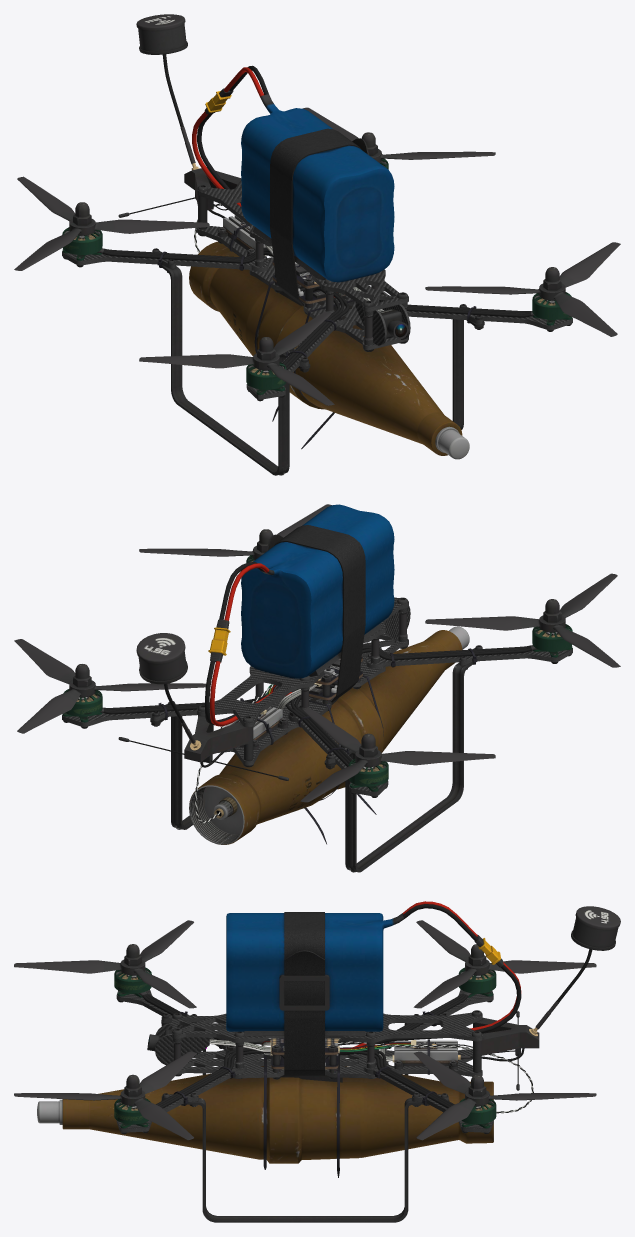
Rendered from FPV_Bomb02.obj.
3 views of the same model, one above another, from view 1: azimuth 30°, elevation 25°; view 2: azimuth 150°, elevation 25°; view 3: azimuth 270°, elevation 25° (orthographic). The views are drawn at different scales.
Visible parts, largest first — view 1: vehicle_fuse_0, Bomb, vehicle_wing_r_4, vehicle_gear_r_15, vehicle_tail_9, rotor_left_front, rotor_right_back, rotor_right_front, vehicle_wing_l_3, rotor_left_back, vehicle_gear_l_14, vehicle_prop01_1_6 (+1 smaller); view 2: vehicle_fuse_0, Bomb, vehicle_tail_9, vehicle_wing_r_4, vehicle_gear_r_15, rotor_right_back, rotor_right_front, rotor_left_back, vehicle_wing_l_3, vehicle_gear_l_14, rotor_left_front, vehicle_prop01_1_6 (+2 smaller); view 3: vehicle_fuse_0, Bomb, vehicle_tail_9, vehicle_wing_l_3, rotor_right_front, rotor_left_back, rotor_left_front, rotor_right_back, vehicle_gear_l_14, vehicle_wing_r_4, vehicle_prop01_1_6, vehicle_prop01_2_13 (+2 smaller).
Boxes of the visible parts, bbox=[...] form: vehicle_fuse_0: bbox=[192, 65, 410, 449]; Bomb: bbox=[189, 241, 469, 459]; vehicle_wing_r_4: bbox=[62, 247, 349, 401]; vehicle_gear_r_15: bbox=[161, 265, 310, 475]; vehicle_tail_9: bbox=[118, 14, 250, 251]; rotor_left_front: bbox=[425, 242, 620, 336]; rotor_right_back: bbox=[14, 176, 209, 270]; rotor_right_front: bbox=[139, 311, 334, 405]; vehicle_wing_l_3: bbox=[352, 289, 572, 331]; rotor_left_back: bbox=[303, 107, 495, 162]; vehicle_gear_l_14: bbox=[452, 319, 484, 429]; vehicle_prop01_1_6: bbox=[246, 362, 286, 389]; vehicle_fuse_0: bbox=[195, 504, 410, 844]; Bomb: bbox=[189, 626, 469, 844]; vehicle_tail_9: bbox=[118, 633, 288, 780]; vehicle_wing_r_4: bbox=[285, 644, 572, 797]; vehicle_gear_r_15: bbox=[324, 662, 473, 872]; rotor_right_back: bbox=[300, 708, 495, 802]; rotor_right_front: bbox=[425, 573, 620, 667]; rotor_left_back: bbox=[14, 639, 206, 733]; vehicle_wing_l_3: bbox=[62, 686, 280, 728]; vehicle_gear_l_14: bbox=[150, 716, 193, 829]; rotor_left_front: bbox=[139, 504, 331, 559]; vehicle_prop01_1_6: bbox=[532, 624, 572, 651]; vehicle_fuse_0: bbox=[155, 901, 533, 1177]; Bomb: bbox=[37, 1066, 493, 1163]; vehicle_tail_9: bbox=[339, 906, 620, 1090]; vehicle_wing_l_3: bbox=[116, 1048, 493, 1134]; rotor_right_front: bbox=[14, 920, 196, 1008]; rotor_left_back: bbox=[413, 1051, 596, 1140]; rotor_left_front: bbox=[14, 1051, 196, 1140]; rotor_right_back: bbox=[413, 920, 596, 1008]; vehicle_gear_l_14: bbox=[161, 1098, 449, 1222]; vehicle_wing_r_4: bbox=[116, 989, 493, 1055]; vehicle_prop01_1_6: bbox=[114, 967, 151, 993]; vehicle_prop01_2_13: bbox=[458, 967, 496, 993].
Bounding box in the file's own units: 0.4762 × 0.2915 × 0.5554.
